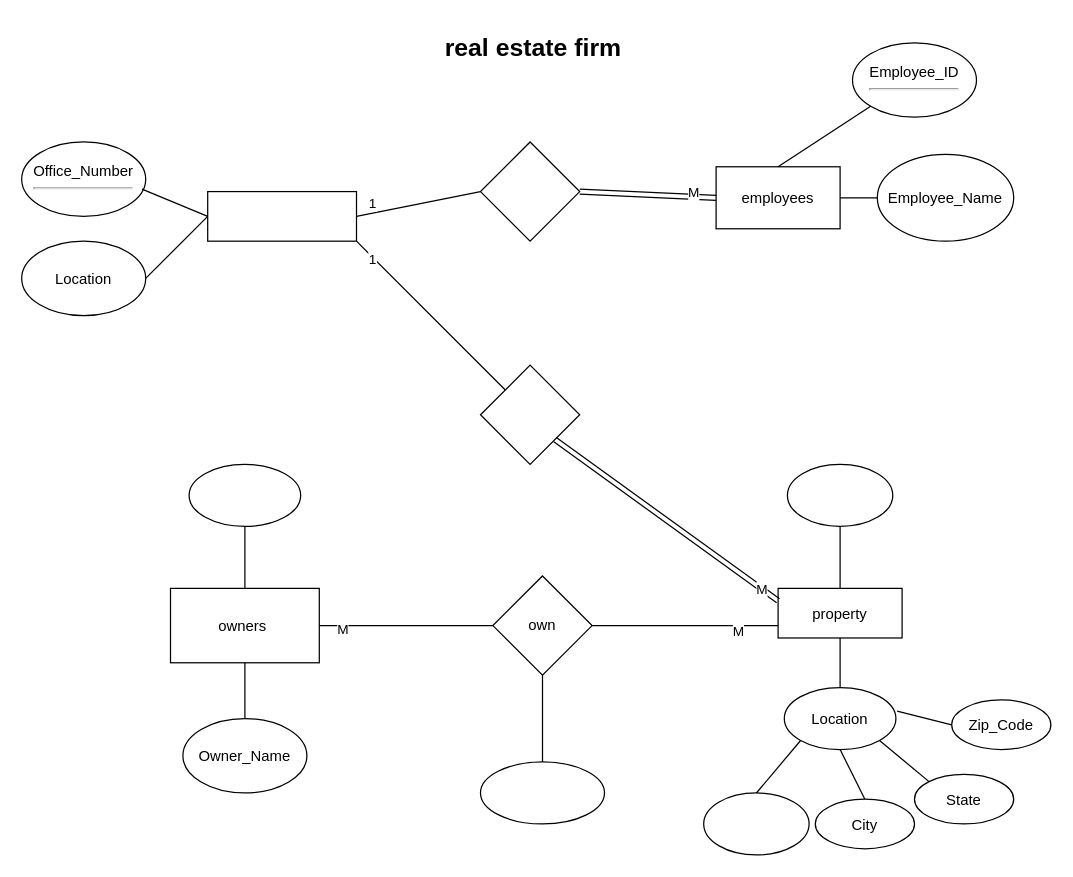
Image size: 1073x877. Some labels were removed from this diagram. The shapes that lost their labels are listed below. From the top down, each one's centre as x and y in pixels, then its label:
At (x=529, y=191): "manage".
At (x=281, y=215): "sales offices".
At (x=529, y=414): "listed".
At (x=244, y=494): "Owner_ID".
At (x=839, y=494): "Property_ID".
At (x=541, y=792): "percent owned".
At (x=755, y=823): "Address".
